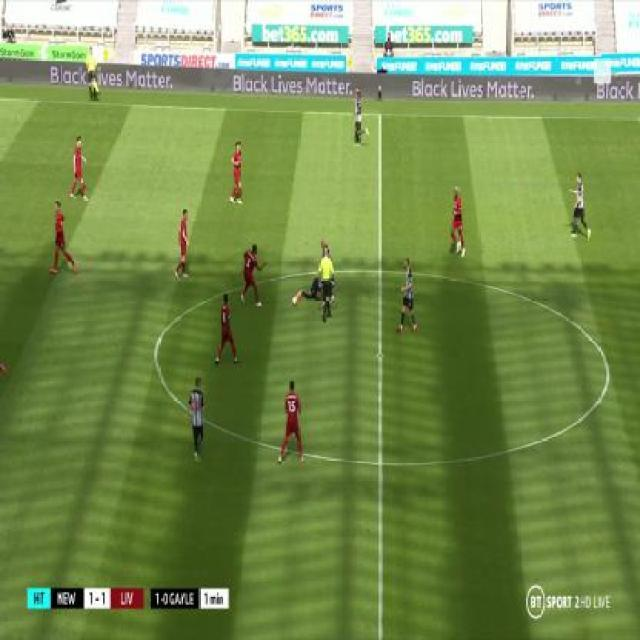player: (278, 378, 309, 474), (182, 377, 210, 465), (49, 200, 80, 279), (394, 252, 422, 335), (213, 293, 241, 372), (239, 244, 267, 312), (566, 169, 591, 243), (172, 209, 194, 283), (71, 134, 93, 208), (448, 186, 468, 259), (287, 276, 327, 307), (318, 249, 334, 323), (350, 89, 369, 149), (230, 142, 247, 204), (85, 45, 98, 104)
